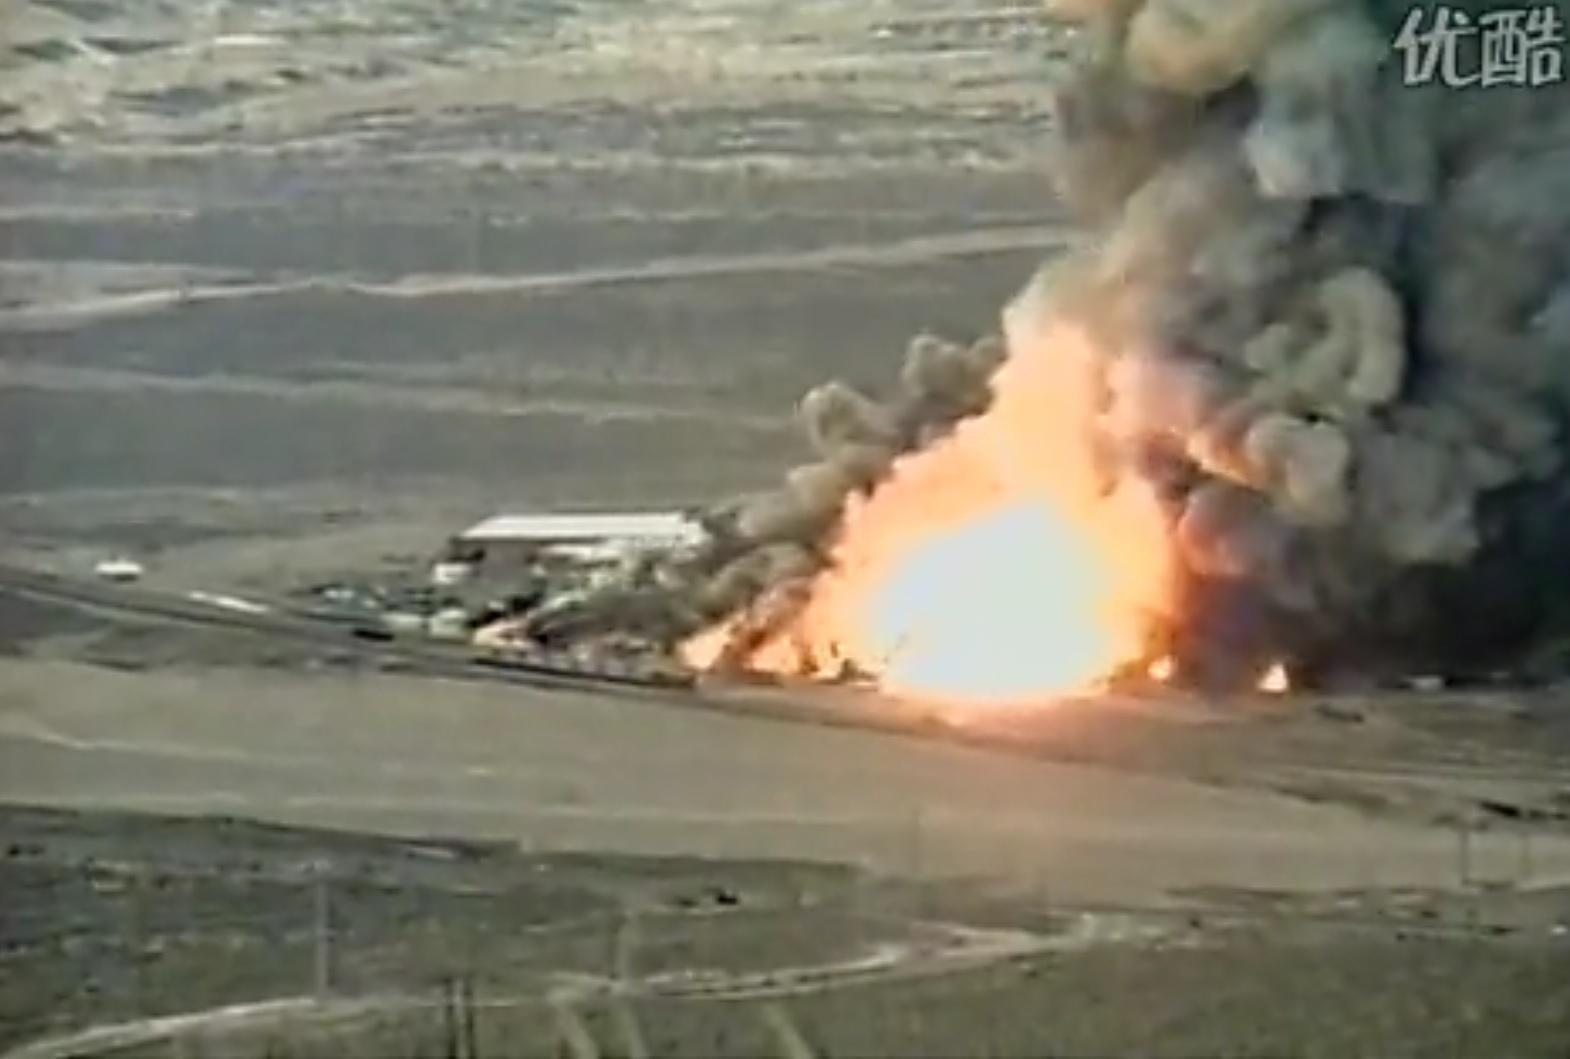fire: (853, 483, 1183, 709)
